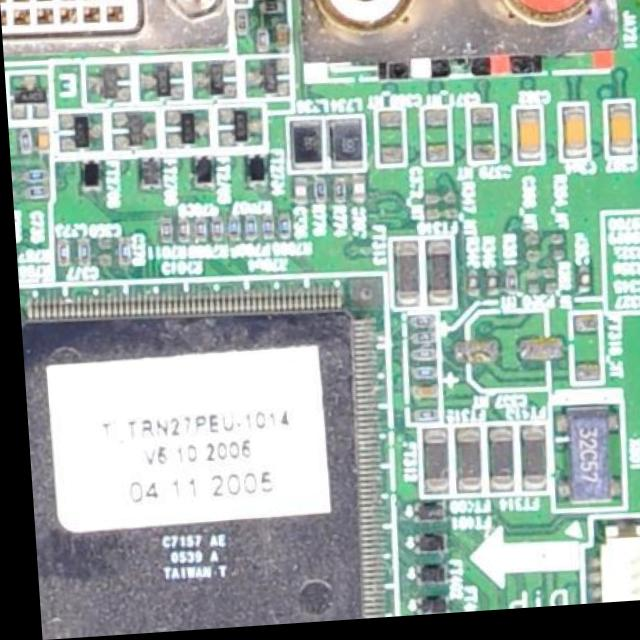IC: (17, 300, 361, 640)
capacitor: (604, 114, 625, 168), (518, 120, 539, 169), (563, 116, 581, 165), (528, 346, 554, 365), (457, 354, 487, 368), (115, 242, 128, 270), (74, 243, 87, 266), (410, 393, 431, 406), (53, 246, 64, 266), (39, 137, 48, 155)
resistor: (570, 272, 585, 297), (191, 222, 204, 247), (348, 185, 362, 207), (225, 223, 238, 244), (312, 184, 325, 205), (260, 220, 270, 243), (155, 225, 167, 243), (410, 415, 429, 425), (175, 225, 186, 242), (27, 170, 44, 181), (244, 221, 252, 244), (485, 279, 494, 298), (210, 224, 219, 243), (333, 185, 341, 206), (465, 280, 473, 300), (281, 221, 288, 243), (412, 357, 429, 366), (411, 339, 428, 348), (504, 281, 512, 299), (411, 375, 426, 384), (408, 326, 425, 333), (29, 190, 44, 197), (10, 189, 14, 199), (9, 171, 12, 181)
transistor: (216, 109, 260, 152), (87, 70, 131, 108), (189, 68, 232, 103), (168, 113, 207, 150), (108, 122, 149, 154), (60, 119, 99, 148), (14, 82, 47, 116), (248, 65, 284, 96), (142, 71, 179, 101)
